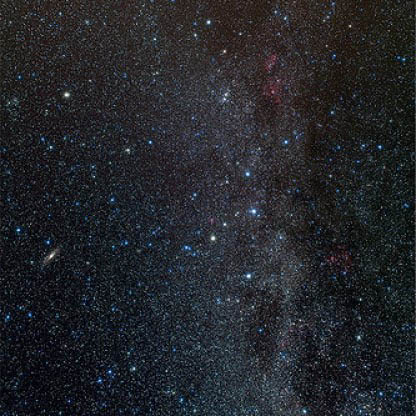Cassiopeia: (210, 220, 232, 248), (239, 263, 261, 288), (275, 132, 293, 154), (242, 203, 262, 220), (239, 166, 256, 184)
